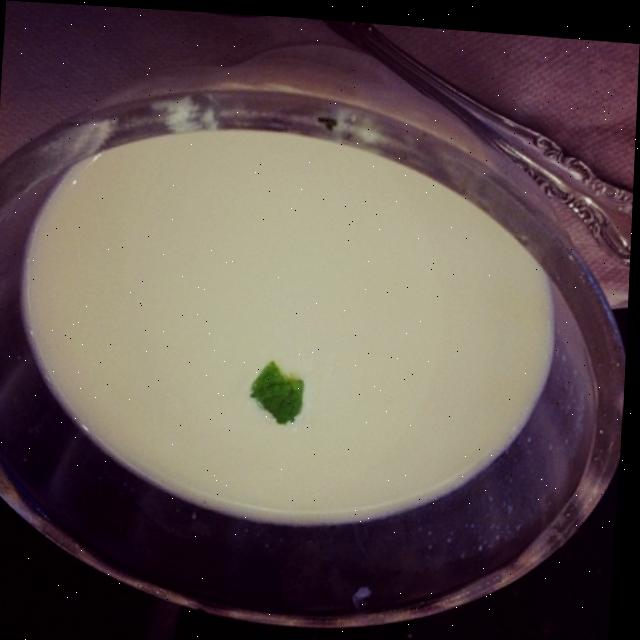熟制海鲜: (149, 8, 640, 640)
